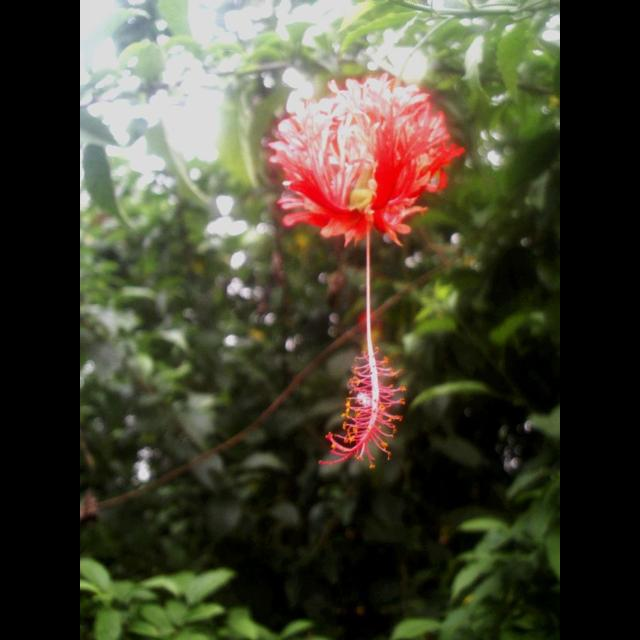Flower: (264, 69, 458, 249)
